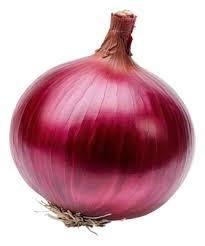non-mango: (8, 8, 195, 229)
